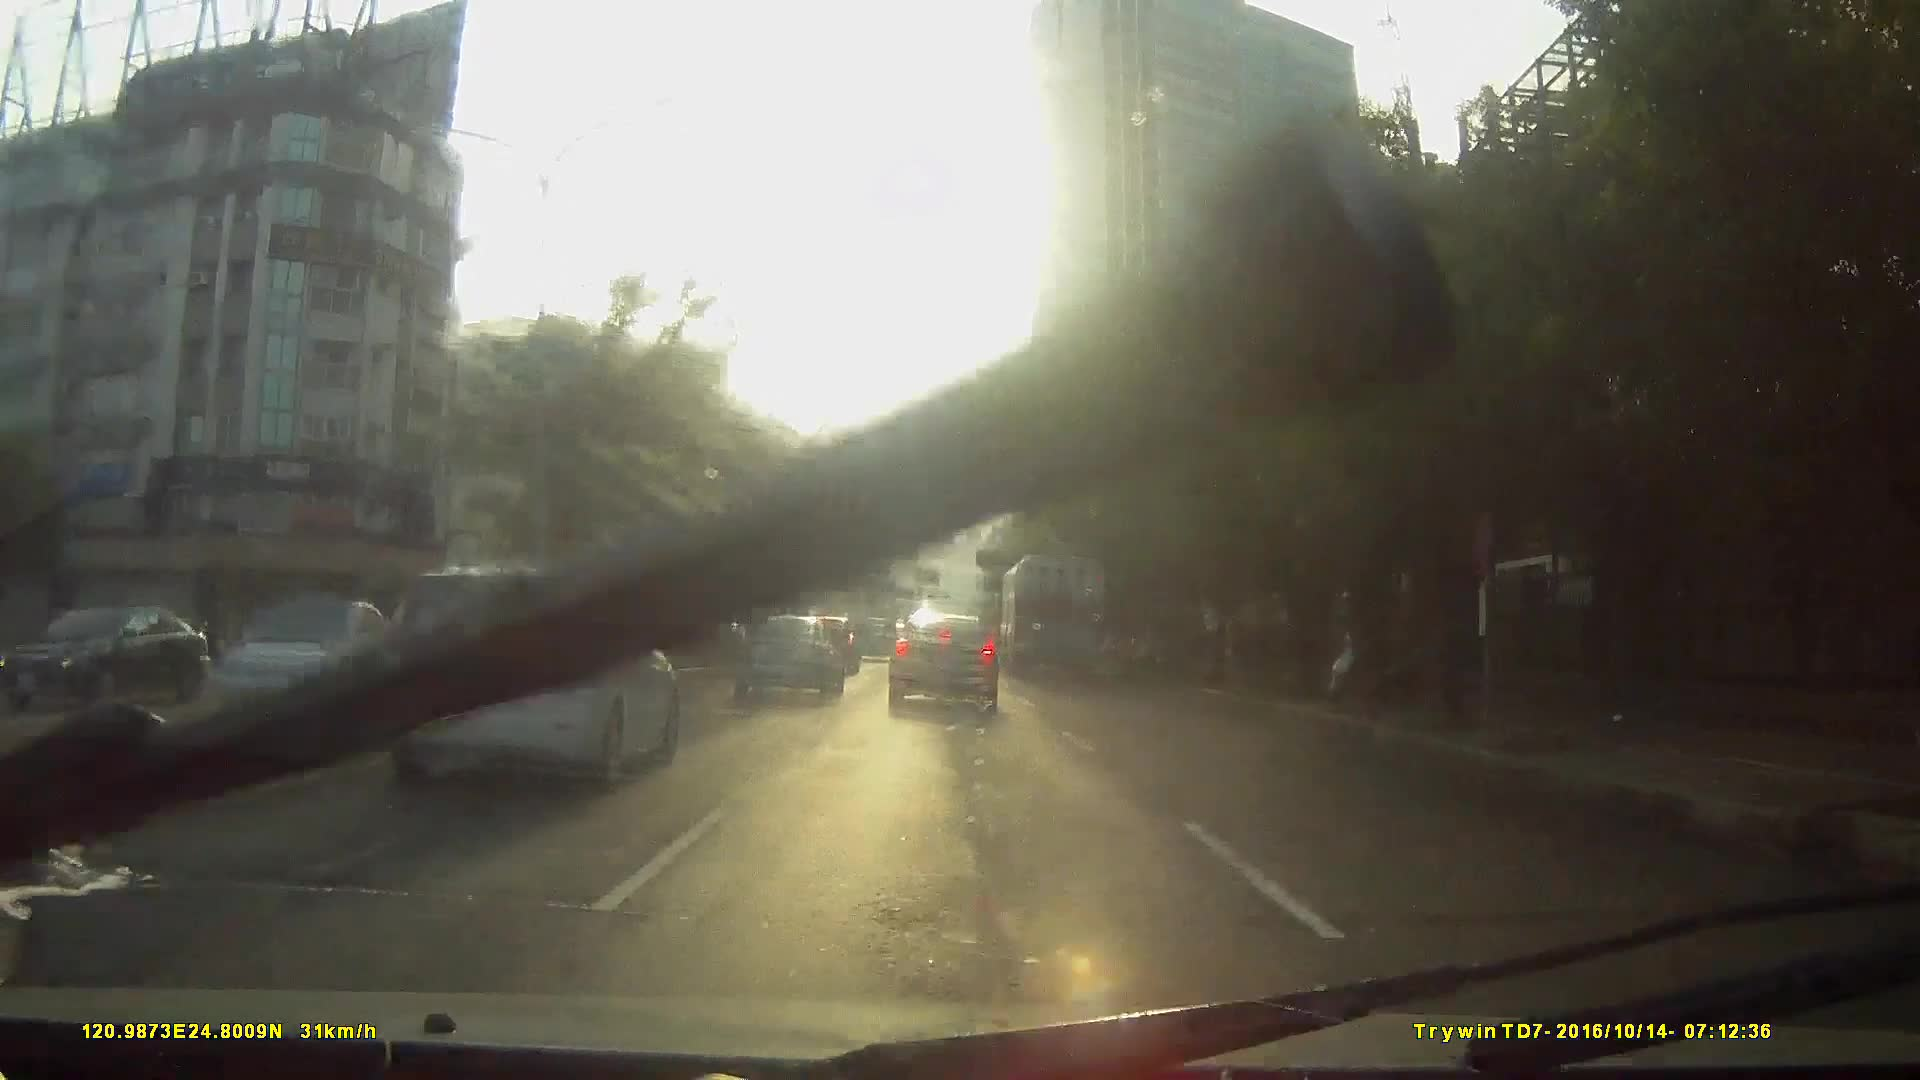vehicle: (251, 556, 684, 868), (371, 555, 676, 785), (202, 592, 421, 742), (5, 609, 206, 712), (1000, 551, 1108, 682), (884, 609, 998, 713), (727, 611, 840, 698), (851, 615, 898, 663)
